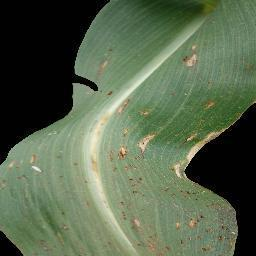Corn_Common_Rust: (111, 165, 171, 255), (172, 187, 240, 256), (170, 126, 235, 186), (0, 142, 69, 194), (25, 219, 72, 256), (133, 105, 156, 159), (99, 127, 130, 165), (72, 146, 98, 186), (102, 97, 132, 126), (94, 46, 115, 84), (179, 41, 201, 70), (77, 238, 112, 254), (202, 95, 219, 114), (45, 127, 63, 140), (102, 89, 120, 99), (82, 197, 94, 210), (165, 86, 179, 97), (243, 62, 256, 72), (206, 77, 214, 87)
